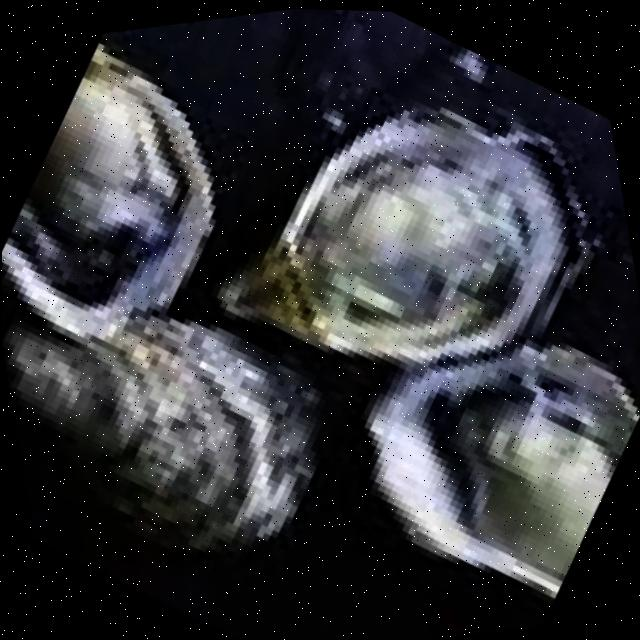Oyster-Indeterminate: (6, 316, 320, 551), (2, 42, 214, 337)
Oyster-Open: (220, 108, 622, 364), (367, 343, 638, 597)
